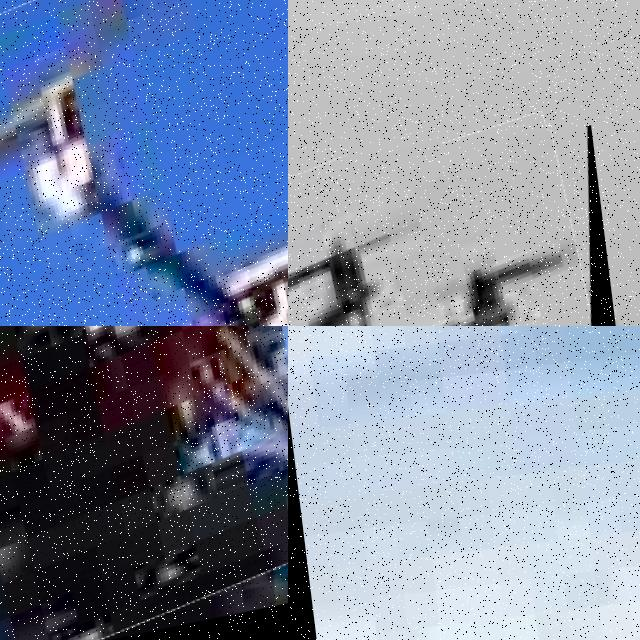drone: (0, 0, 288, 326), (0, 326, 288, 640), (288, 124, 633, 326)
